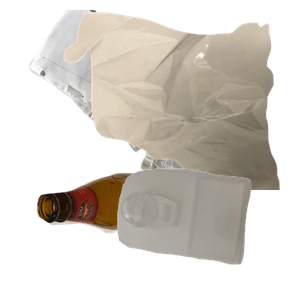glass: (34, 170, 223, 300)
paper: (27, 10, 252, 187)
plastic: (115, 166, 300, 300)
trash: (61, 10, 300, 190)
